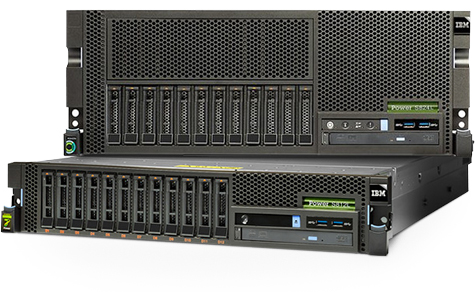ibm-server: (60, 3, 475, 162), (3, 158, 408, 263)
